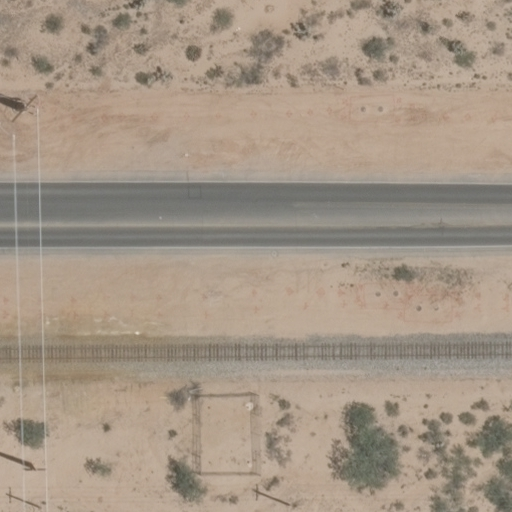DT: (7, 486, 44, 512), (249, 484, 290, 506), (14, 96, 36, 123)
